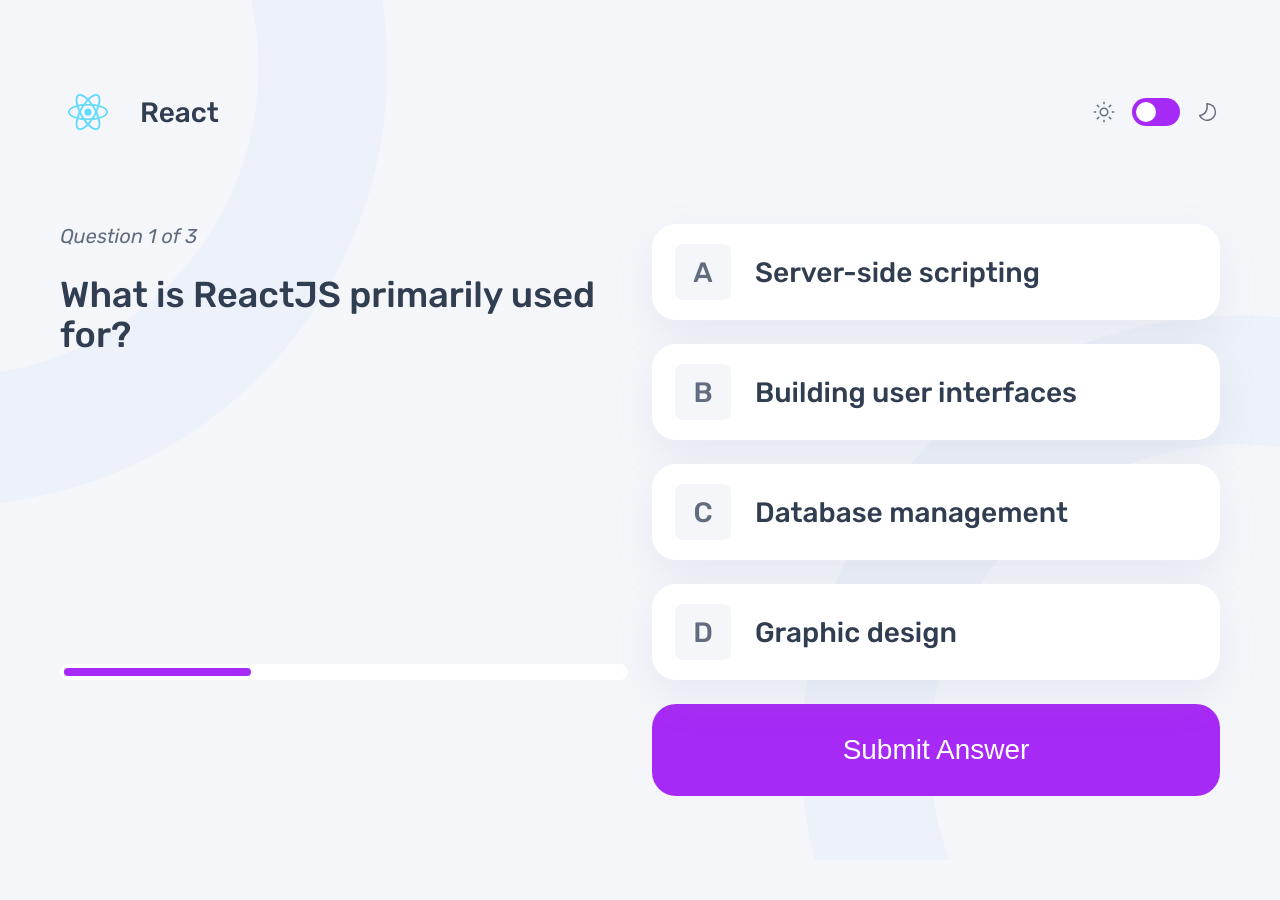
Scenario: App › Moving to next page
Click the button with test id "option-1" at (936, 392), box [652,344,1220,440]
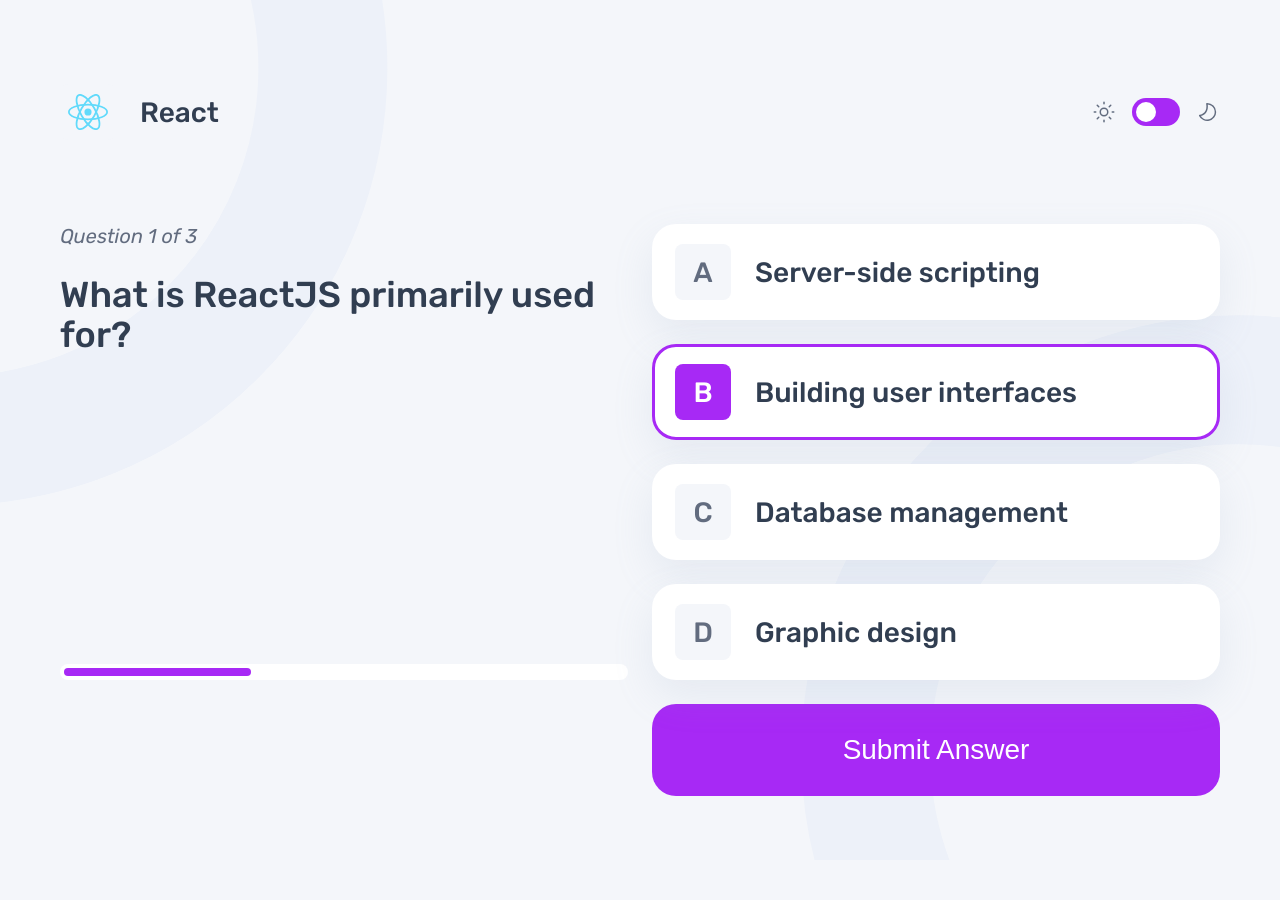
Click the button "Submit Answer" at (936, 750), box [652,704,1220,796]
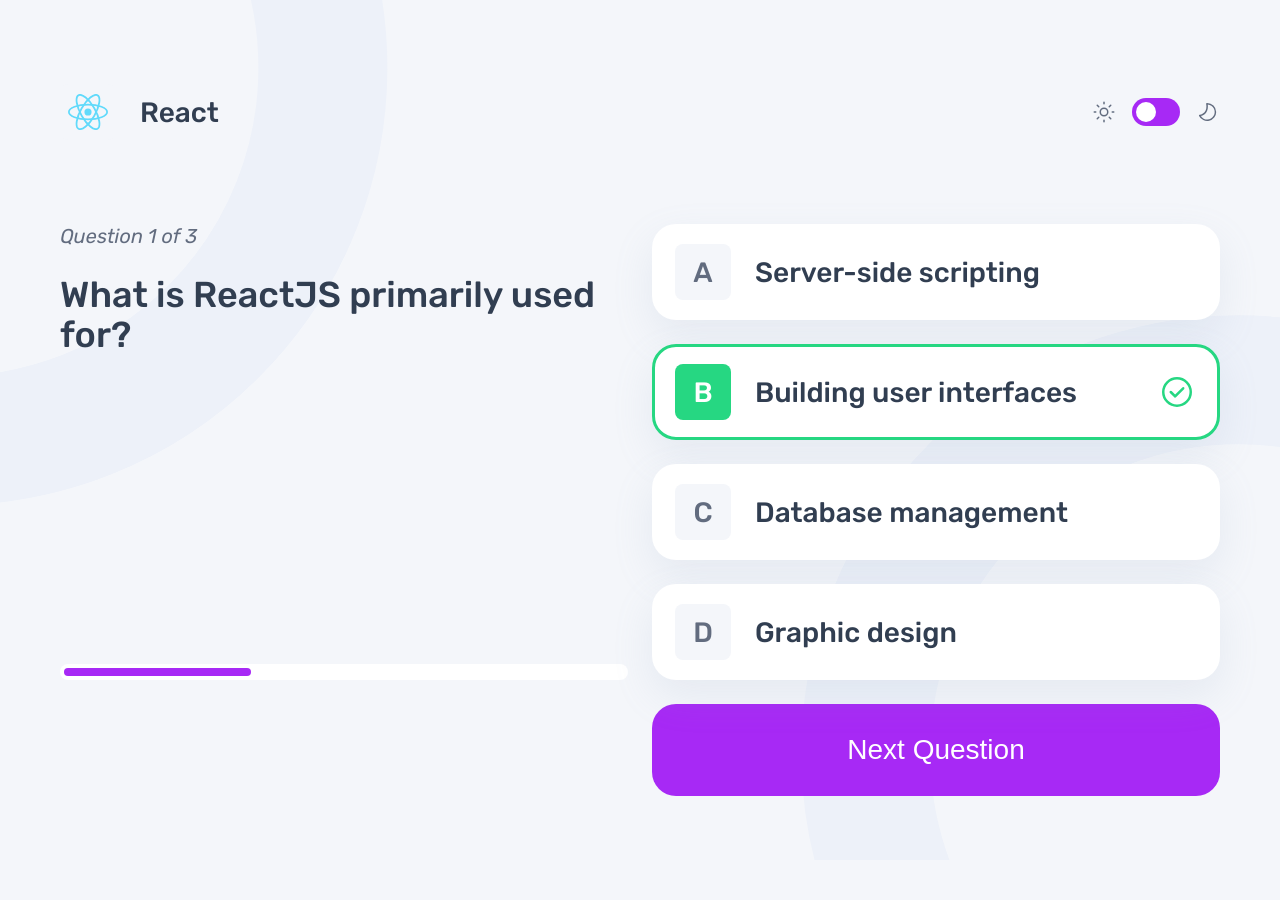
Click the button "Next Question" at (936, 750), box [652,704,1220,796]
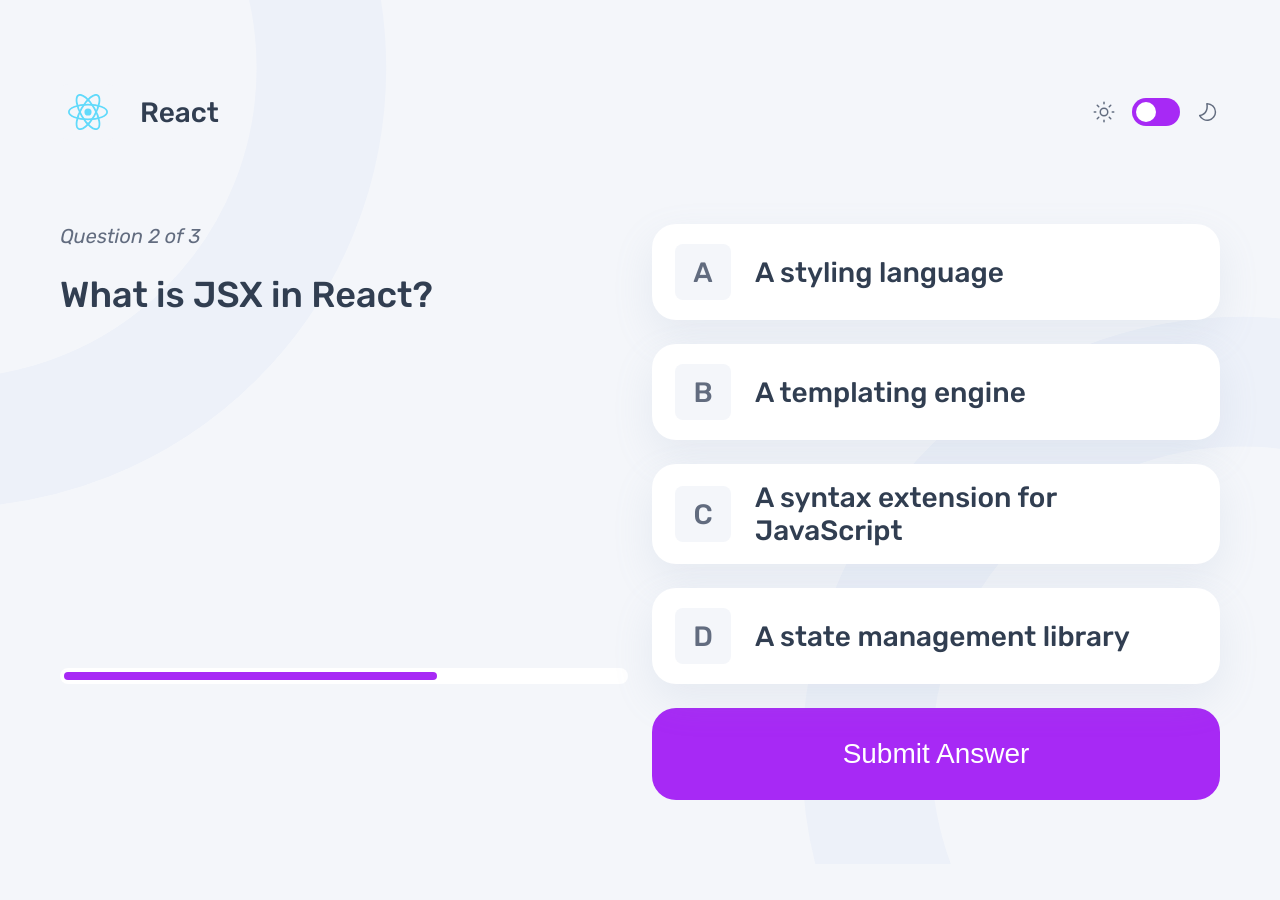
Expected: the text "Question 2 of 3" is shown, [60,224,200,248]
